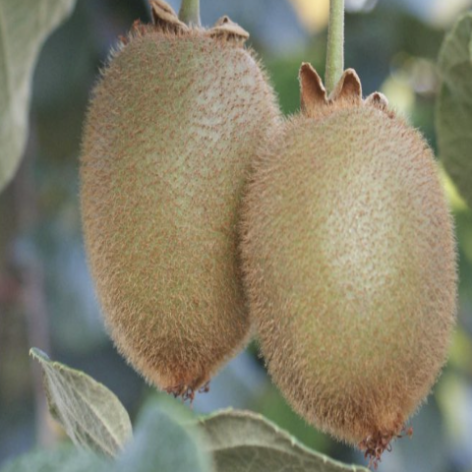kiwi: (58, 10, 297, 395), (238, 55, 457, 460)
